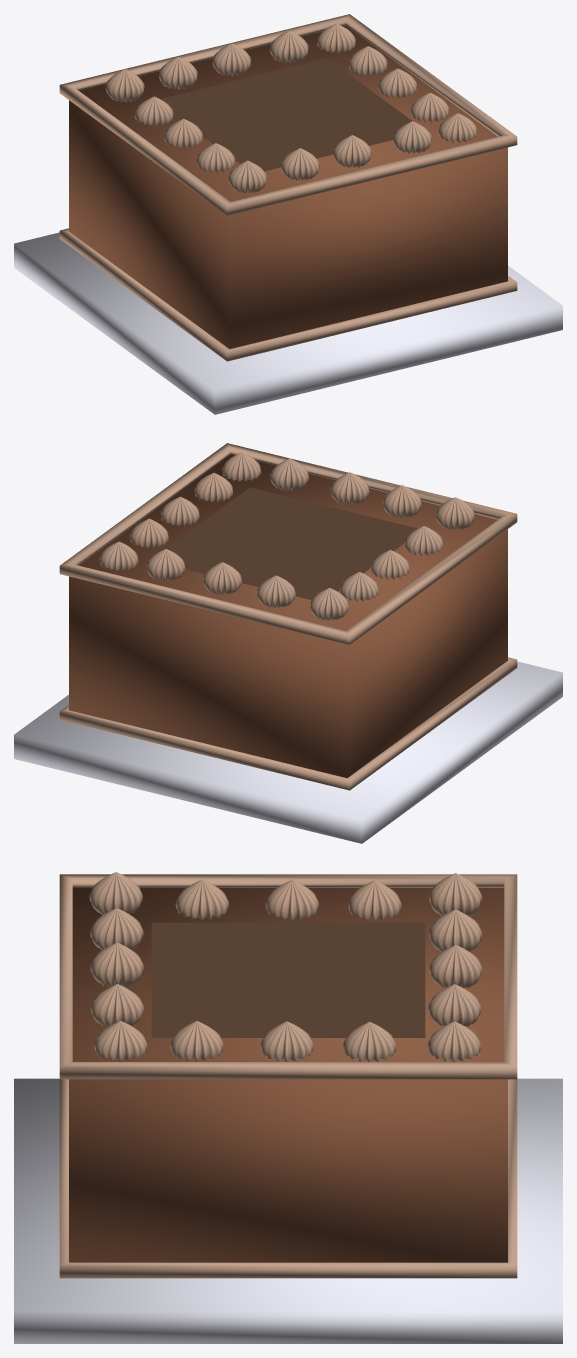
The model's file is square_chocolate_style3.glb.
The picture shows the model from 3 angles, top to bottom: view 1: azimuth 30°, elevation 25°; view 2: azimuth 150°, elevation 25°; view 3: azimuth 270°, elevation 25°; orthographic projection. The views are drawn at different scales.
Visible parts, largest first — view 1: CakeBase, IcingStand, CakeTopColor, IcingRing, IcingRing.001, CakecolorCircle, design12, design13, design8, design9, design11, design10 (+10 smaller); view 2: CakeBase, IcingStand, CakeTopColor, IcingRing, IcingRing.001, CakecolorCircle, design13, design12, design9, design8, design11, design10 (+10 smaller); view 3: CakeBase, IcingStand, CakeTopColor, IcingRing, IcingRing.001, CakecolorCircle, design9, design8, design7, design6, design12, design13 (+10 smaller).
Boxes of the visible parts, x1,y1,x2,y2 form: CakeBase: (69,25,507,348); IcingStand: (14,232,562,414); CakeTopColor: (165,63,406,167); IcingRing: (59,14,517,215); IcingRing.001: (59,228,517,361); CakecolorCircle: (160,58,412,171); design12: (105,69,144,102); design13: (228,160,267,193); design8: (212,43,251,76); design9: (333,135,371,167); design11: (159,57,197,89); design10: (281,148,319,180); CakeBase: (69,454,507,777); IcingStand: (14,661,562,843); CakeTopColor: (172,492,410,596); IcingRing: (59,443,517,644); IcingRing.001: (59,657,517,790); CakecolorCircle: (166,487,417,599); design13: (436,497,474,530); design12: (310,588,348,620); design9: (330,472,369,505); design8: (203,562,241,594); design11: (257,575,295,608); design10: (383,485,421,517); CakeBase: (69,888,507,1262); IcingStand: (14,1078,562,1343); CakeTopColor: (163,926,414,1032); IcingRing: (59,874,517,1079); IcingRing.001: (59,1079,517,1278); CakecolorCircle: (151,922,425,1037); design9: (90,942,143,987); design8: (429,945,482,987); design7: (428,984,481,1026); design6: (90,984,144,1026); design12: (429,873,482,915); design13: (89,872,142,915).
Size of the model in its own units: 3 by 1.73 by 3.
